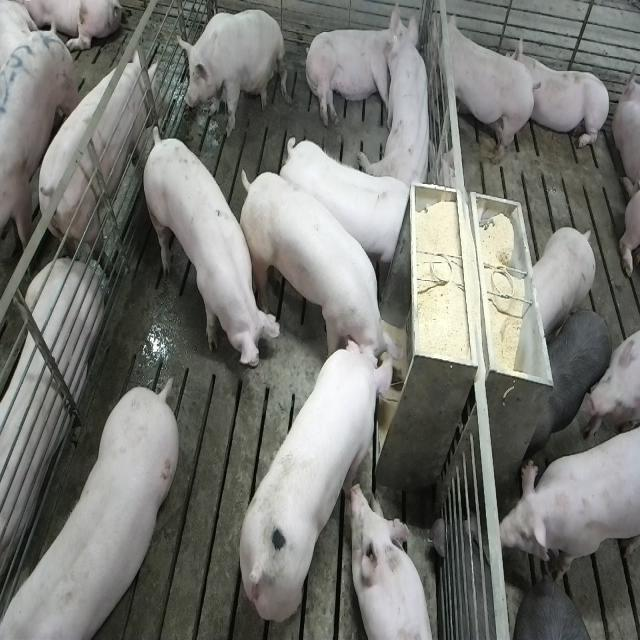Feeding: (236, 334, 402, 624), (237, 166, 405, 382)
Lateral_lying: (302, 11, 396, 129)
Sitting: (177, 8, 286, 139), (369, 9, 435, 195)
Standing: (0, 382, 176, 640), (140, 120, 274, 374), (36, 52, 166, 276), (499, 414, 639, 583), (278, 133, 414, 274), (0, 38, 80, 273), (432, 10, 538, 166), (530, 305, 610, 458), (530, 226, 596, 340), (515, 576, 600, 638)
Sternal_lying: (0, 259, 100, 608), (349, 482, 438, 640), (517, 38, 612, 154)
